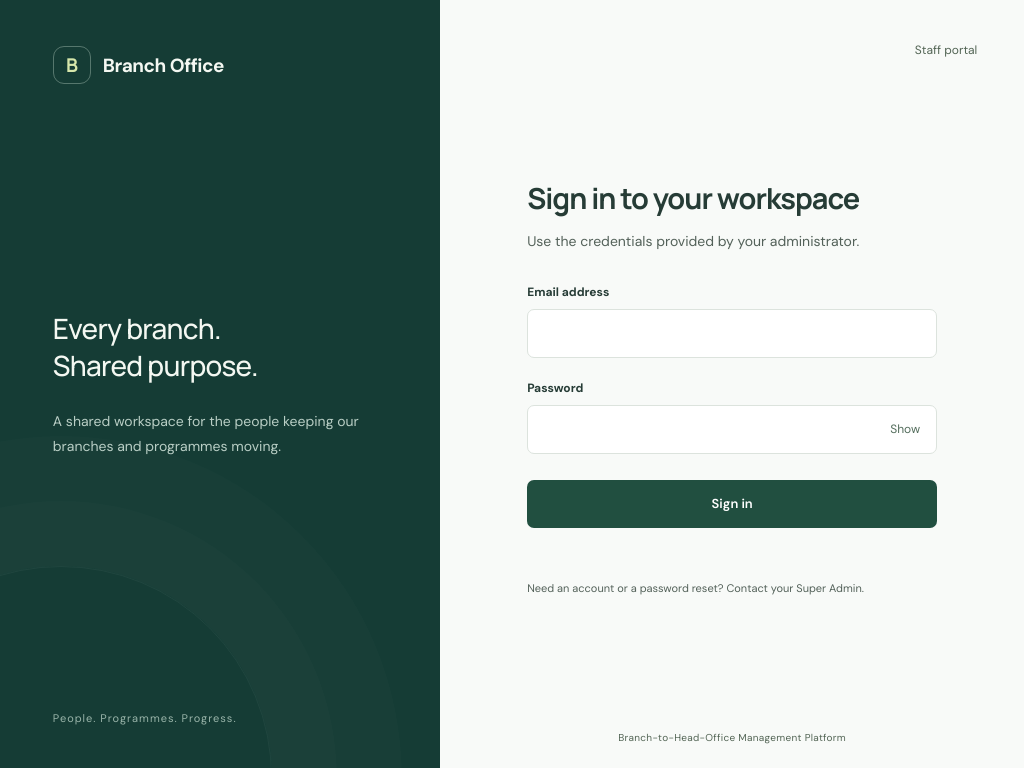
Test: blocks duplicate login submissions while request is pending
Expected: the heading "Sign in to your workspace" is shown, [527,178,859,218]
In the field labelled "Email address": point(732, 333) [527,309,937,358], type "staff@example.test"
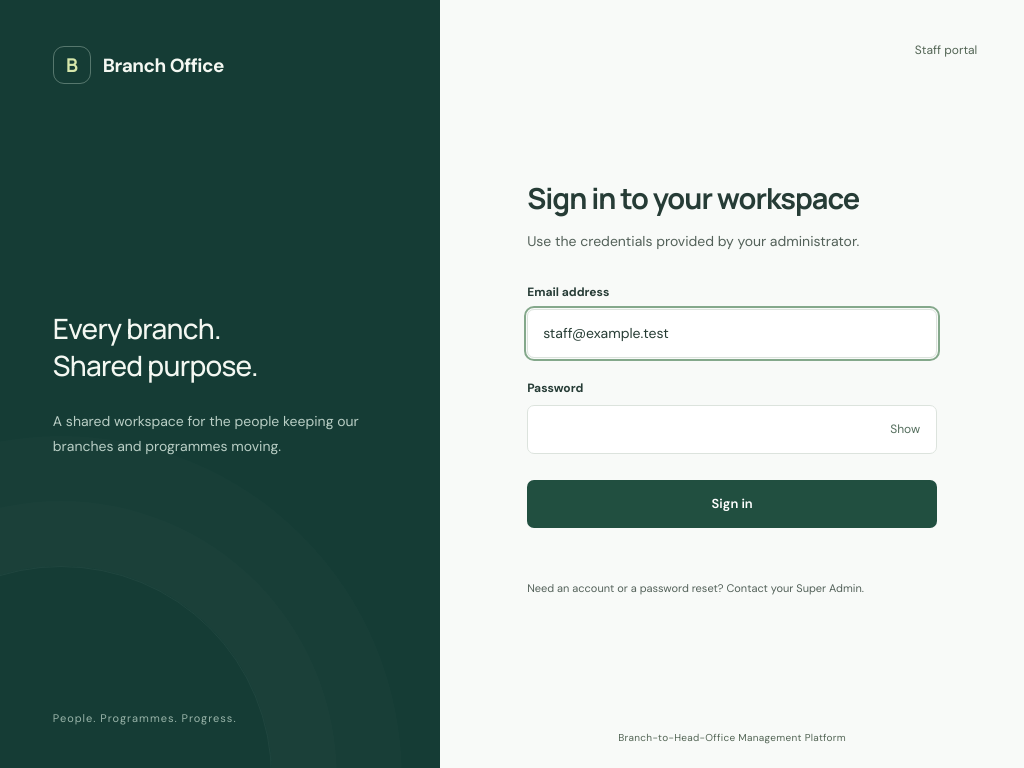
In the password field labelled "Password": point(732, 429) [527,405,937,454], type "valid password"
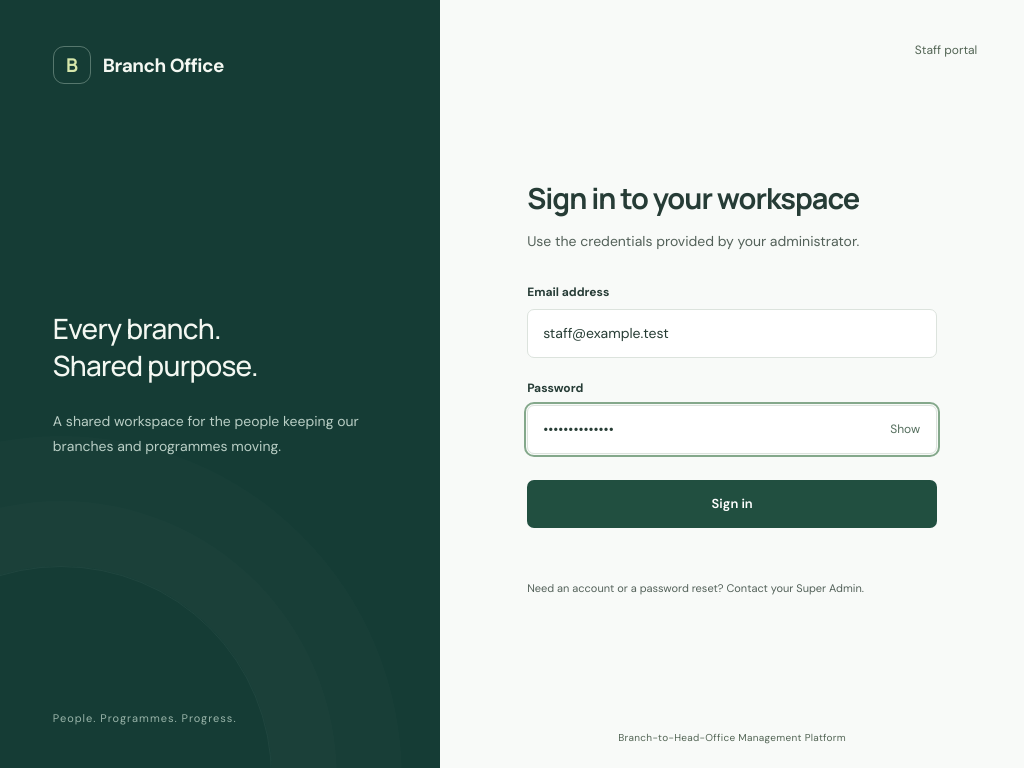
Click the button "Sign in": point(732, 504) [527,480,937,528]
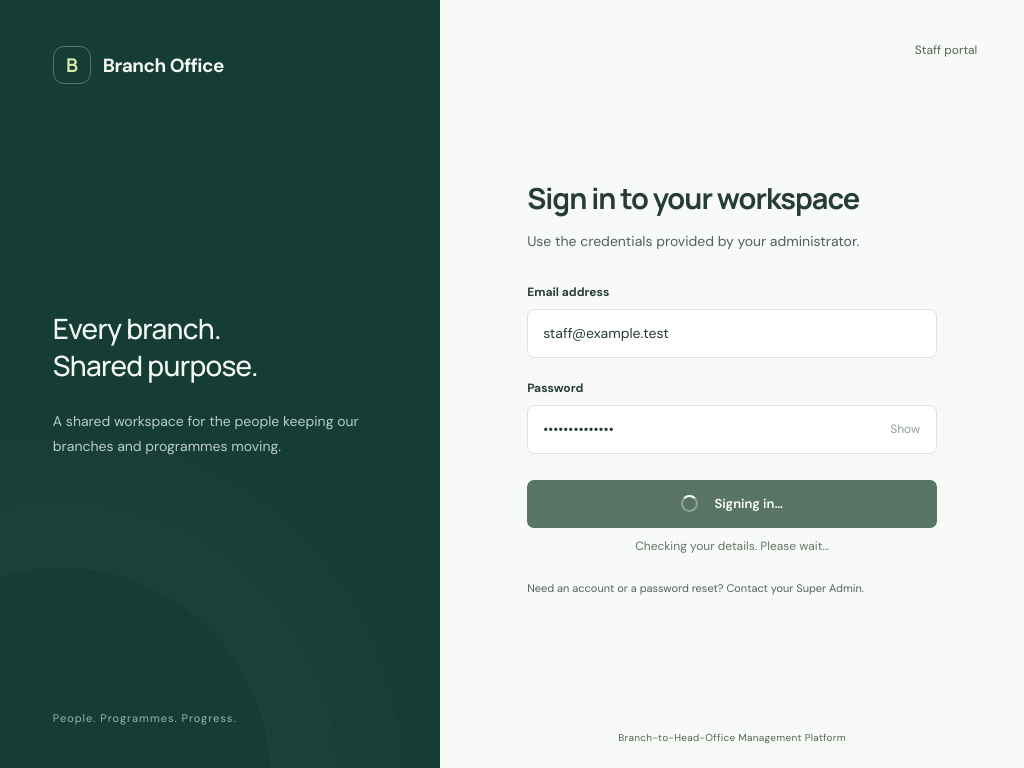
Expected: the button "Signing in…" is disabled, [527,480,937,528]
